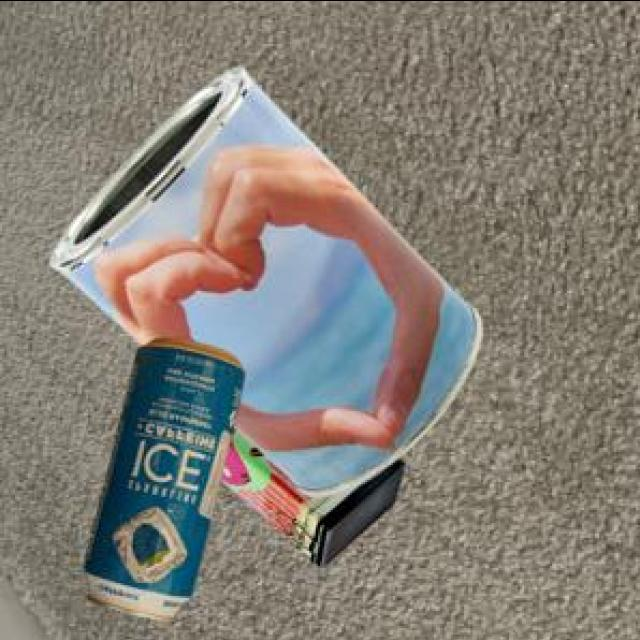logam: (48, 63, 480, 493), (81, 334, 242, 615), (218, 424, 403, 564)
